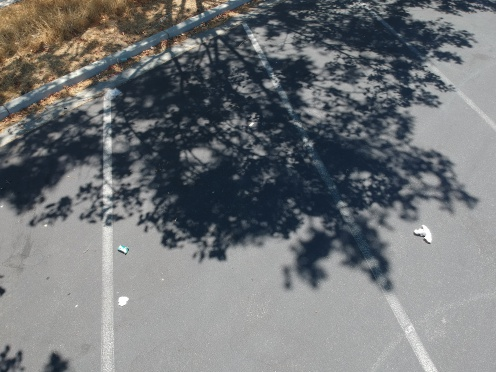can: (116, 55, 135, 67)
plastic bag: (100, 84, 128, 104)
